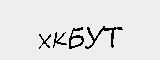Б: (67, 25, 86, 53)
К: (51, 29, 68, 52)
Т: (102, 24, 126, 49)
У: (83, 24, 103, 52)
Х: (37, 30, 53, 51)
